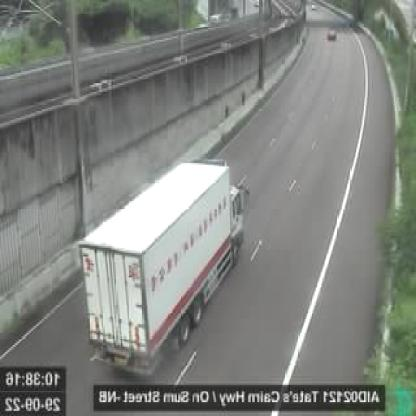Truck: (78, 147, 256, 378)
